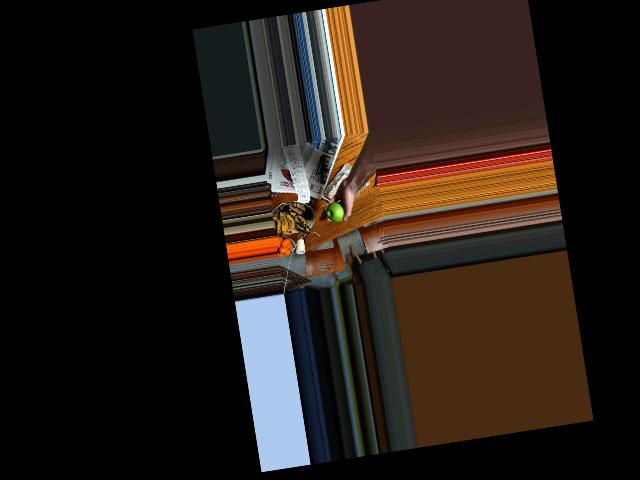apple: (326, 198, 350, 224)
